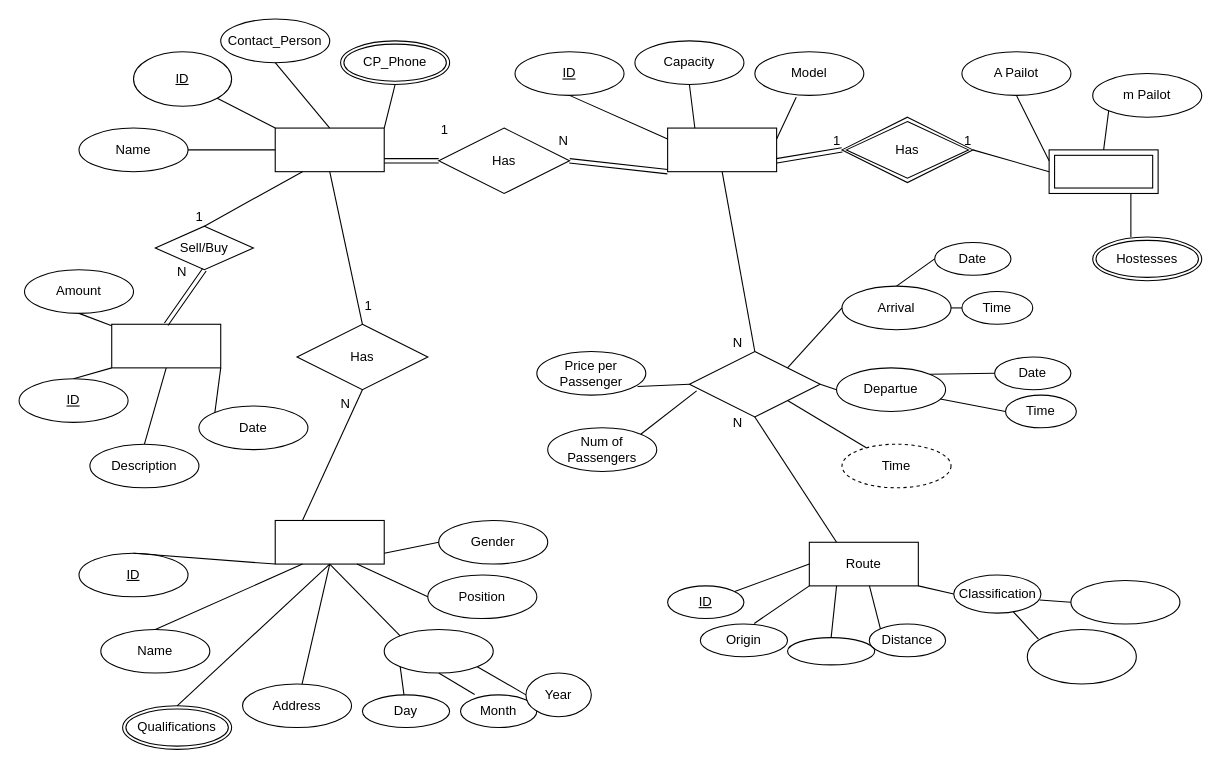
Some shapes in this 1221 by 768 pixel diagram are drawn without their labels. Here are the shapes that lost their labels. From the top down, the box of each, then its label:
(274, 127, 384, 172): Air_Line
(667, 127, 777, 172): Air_craft
(1048, 149, 1158, 193): Crew
(111, 323, 221, 368): Transaction
(688, 350, 820, 417): Assign
(274, 519, 384, 564): Employee
(1070, 579, 1180, 624): Domestic
(383, 628, 493, 673): BD
(786, 637, 875, 665): Destination
(1026, 628, 1136, 684): international_Rote
